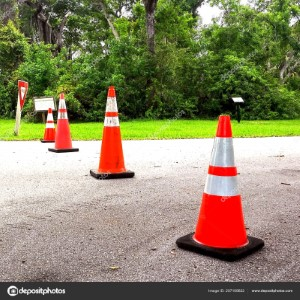traffic cone: (175, 113, 264, 262), (90, 86, 135, 180), (47, 93, 79, 153), (40, 107, 60, 142)
